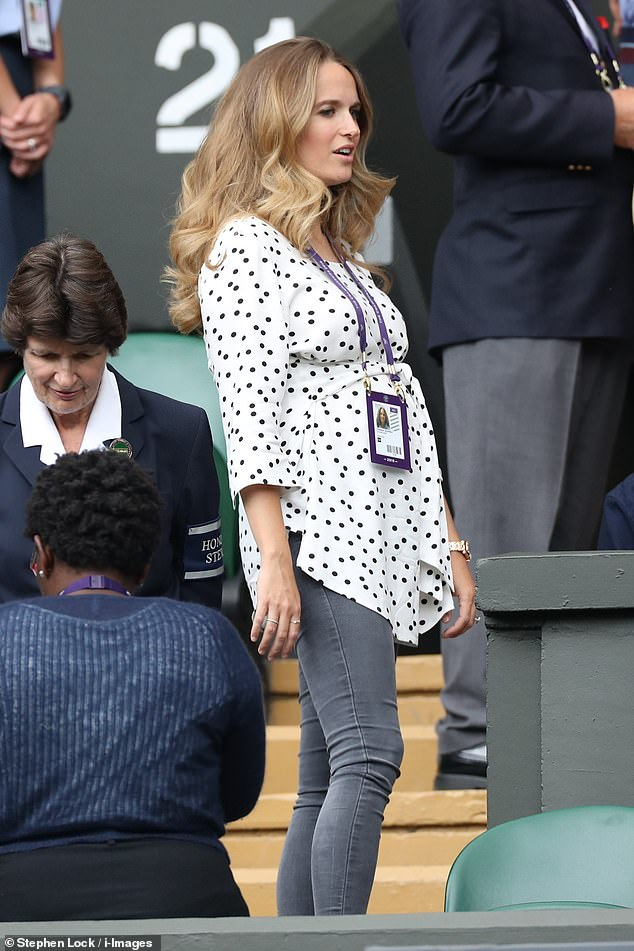Person: (168, 37, 478, 911), (2, 453, 267, 920), (1, 231, 214, 454)
